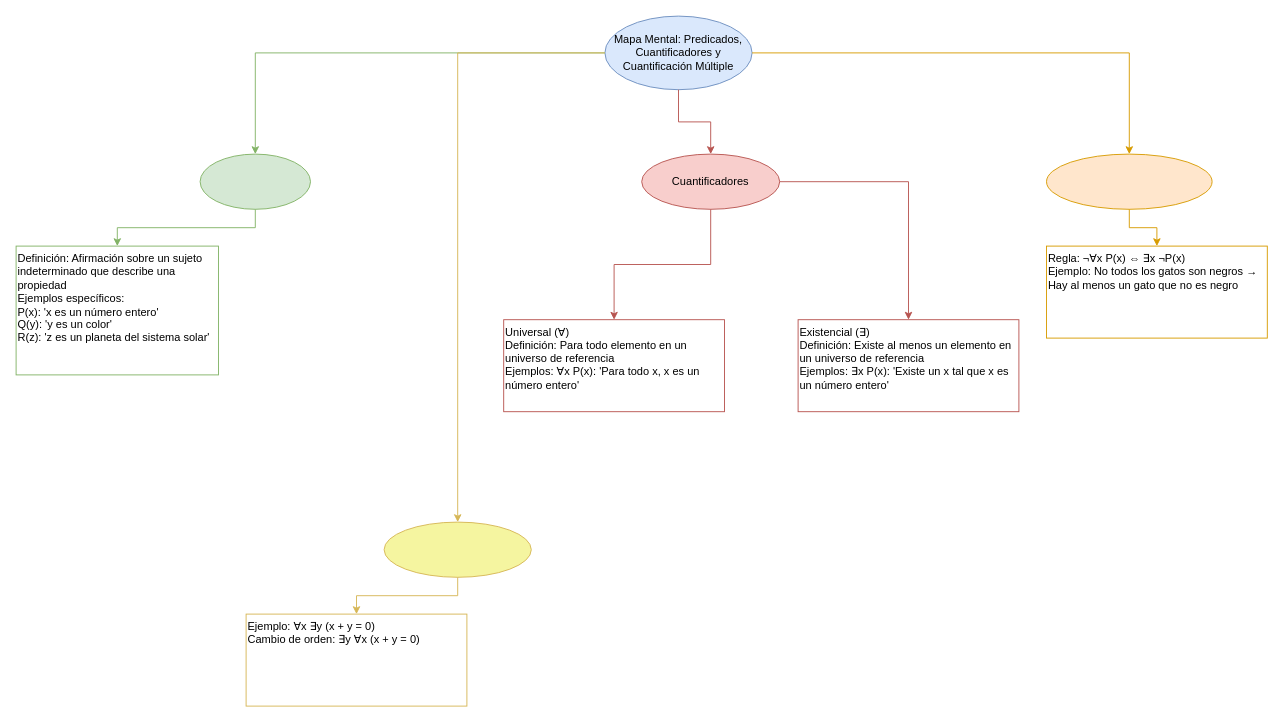
Some shapes in this 1283 by 722 pixel diagram are drawn without their labels. The shapes that lost their labels are listed below. From the top down, each one's centre as x and y in pixels, then its label:
At point (254, 181): "Predicados".
At point (1129, 181): "Negación de Cuantificadores".
At point (457, 549): "Cuantificación Múltiple".
